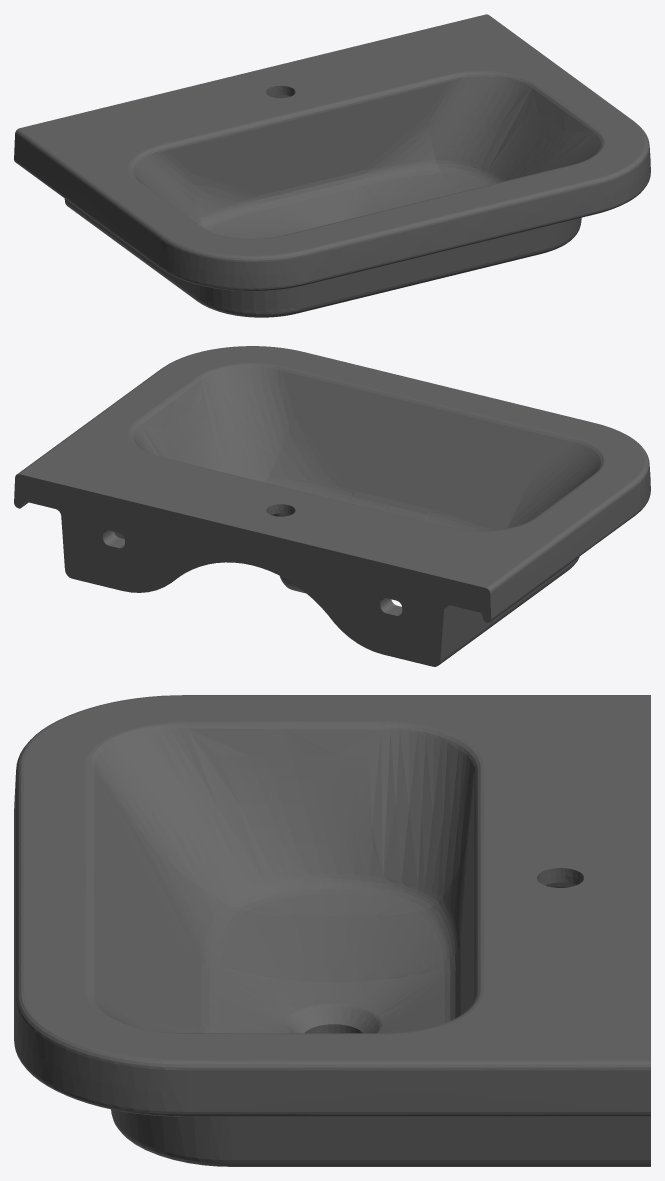
The model's file is AEC_64370.glb.
3 renders of one model, top to bottom at view 1: azimuth 30°, elevation 25°; view 2: azimuth 150°, elevation 25°; view 3: azimuth 270°, elevation 25°, orthographic. The views are drawn at different scales.
Parts seen in each view (by area): view 1: 0; view 2: 0; view 3: 0.
Part boxes in pixels (bbox=[...]): 0: bbox=[14, 14, 650, 317]; 0: bbox=[14, 346, 650, 666]; 0: bbox=[14, 695, 650, 1166].
Bounding box in the file's own units: 0.6539 × 0.1663 × 0.472.
1 material, 1 textured.
